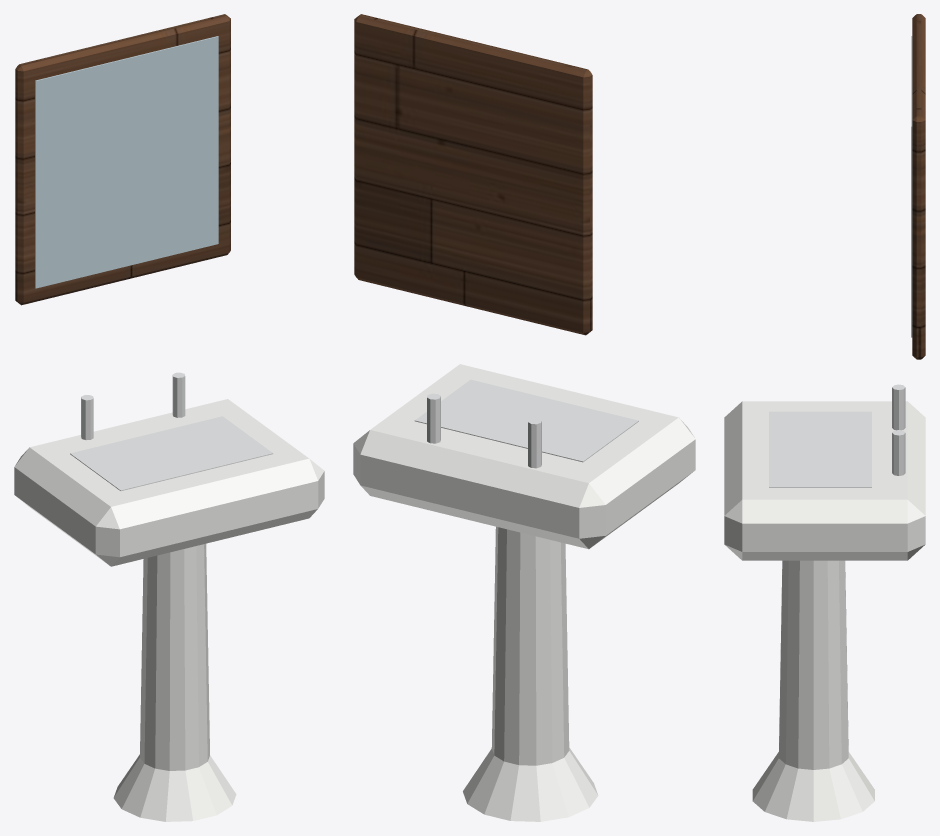
File: pedestal_sink.glb
The picture shows the model from 3 angles, left to right: view 1: azimuth 30°, elevation 25°; view 2: azimuth 150°, elevation 25°; view 3: azimuth 270°, elevation 25°; orthographic projection. The views are drawn at different scales.
Parts seen in each view (by area): view 1: pedestal_sink_porcelain, pedestal_sink_glass, pedestal_sink_dkwood, pedestal_sink_chrome; view 2: pedestal_sink_dkwood, pedestal_sink_porcelain, pedestal_sink_chrome; view 3: pedestal_sink_porcelain, pedestal_sink_chrome, pedestal_sink_dkwood, pedestal_sink_glass.
Boxes of the visible parts, bbox=[...] form: pedestal_sink_porcelain: bbox=[14, 399, 324, 821]; pedestal_sink_glass: bbox=[35, 36, 218, 288]; pedestal_sink_dkwood: bbox=[15, 14, 230, 305]; pedestal_sink_chrome: bbox=[70, 372, 273, 490]; pedestal_sink_dkwood: bbox=[354, 14, 592, 335]; pedestal_sink_porcelain: bbox=[353, 364, 695, 821]; pedestal_sink_chrome: bbox=[414, 379, 638, 468]; pedestal_sink_porcelain: bbox=[724, 401, 925, 821]; pedestal_sink_chrome: bbox=[769, 384, 905, 487]; pedestal_sink_dkwood: bbox=[912, 14, 925, 359]; pedestal_sink_glass: bbox=[911, 36, 912, 337].
Bounding box in the file's own units: 0.6 × 1.8 × 0.45.
Materials: 4 (1 with a texture image).
